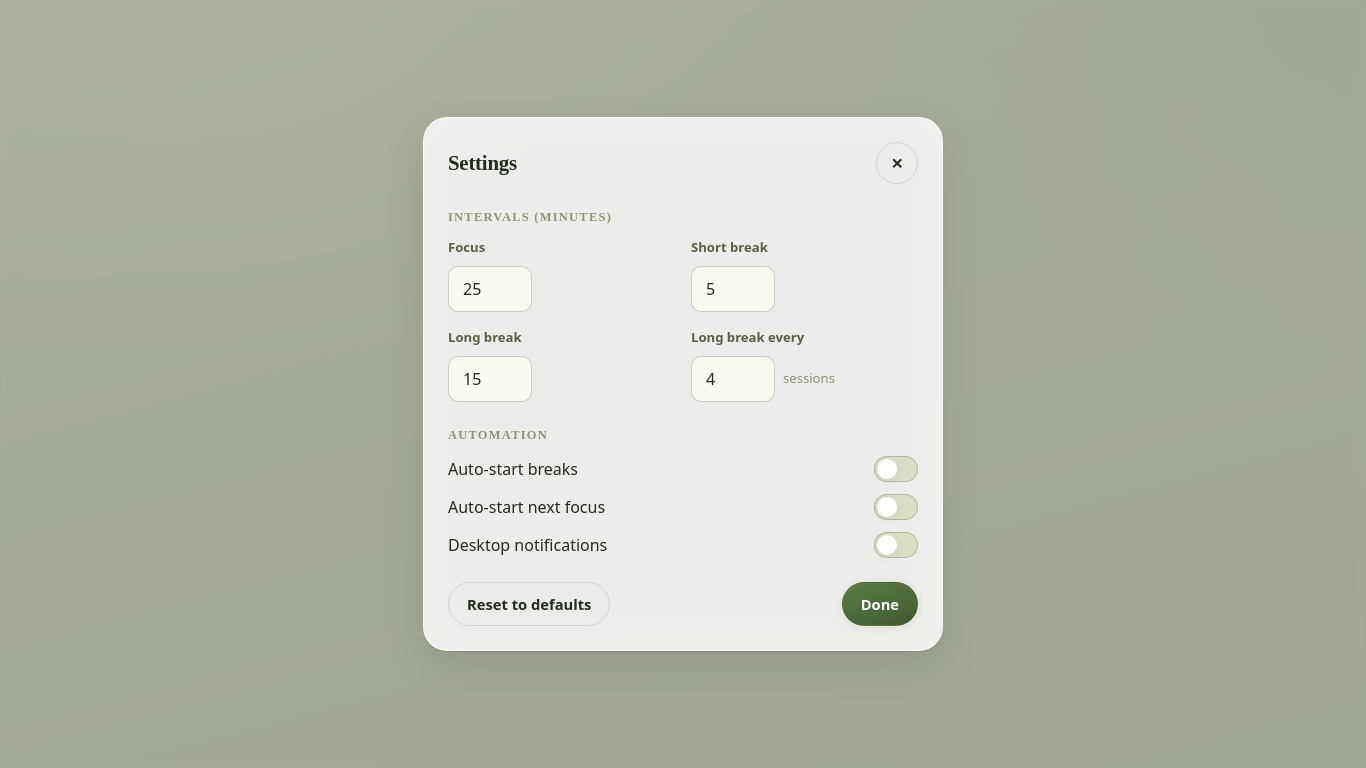
Test: SettingsPanel › clamps an interval into the allowed range
This screenshot has width=1366, height=768.
Replace the text in the 1st number field with "999" at (490, 289), box [448,266,532,312]
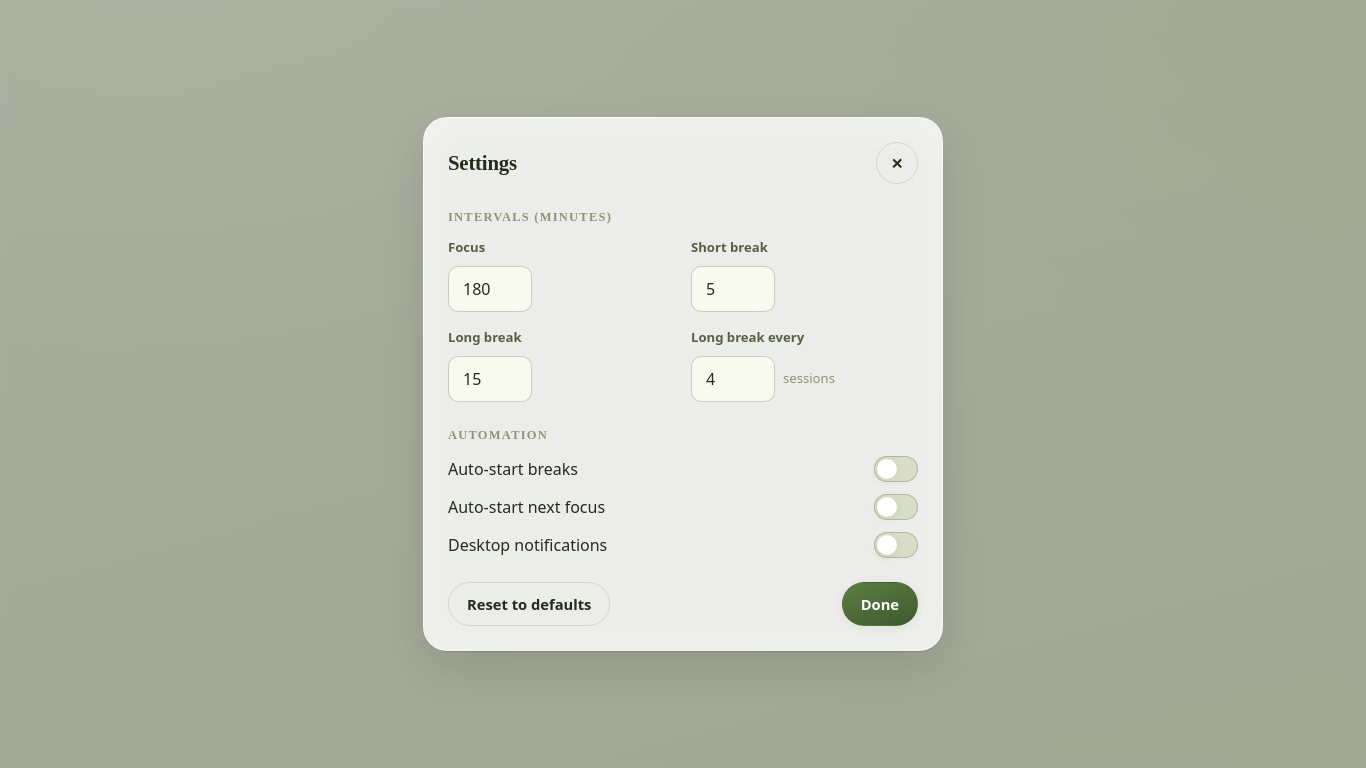
expect the 1st number field holds "180": met, box [448,266,532,312]
